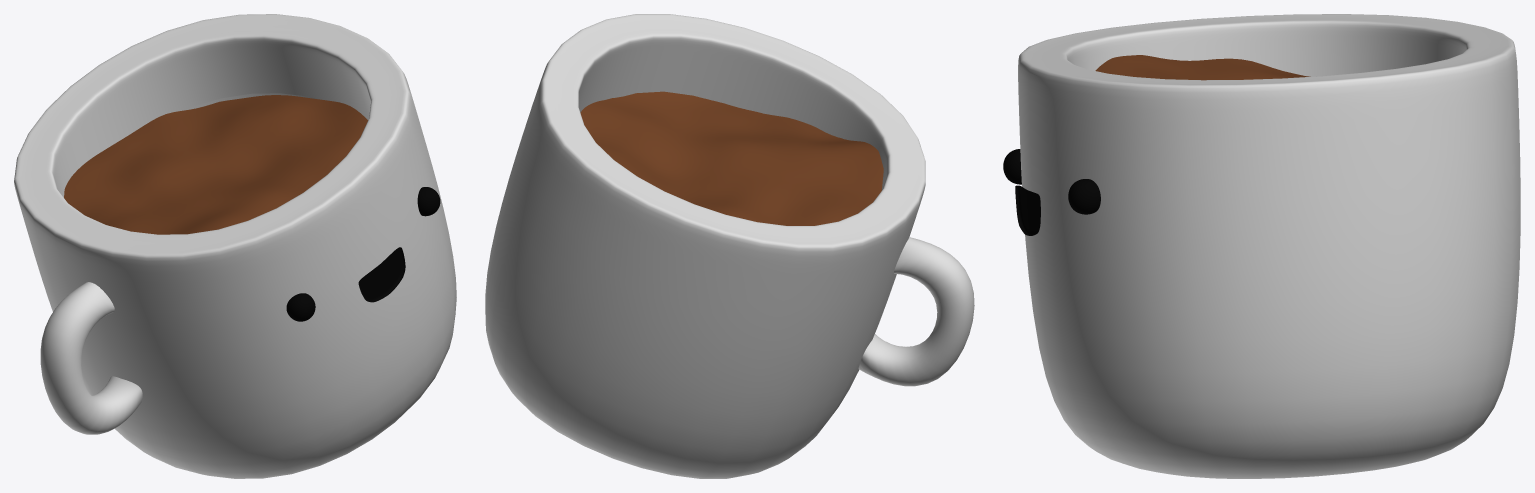
Rendered from mug.glb.
The picture shows the model from 3 angles, left to right: view 1: azimuth 30°, elevation 25°; view 2: azimuth 150°, elevation 25°; view 3: azimuth 270°, elevation 25°; orthographic projection. The views are drawn at different scales.
Parts seen in each view (by area): view 1: Cube_2, Plane_3, Cube.001_4, Cube.004_6, Cube.002_5, Cube.003_7; view 2: Cube_2, Plane_3, Cube.001_4; view 3: Cube_2, Plane_3, Cube.004_6, Cube.003_7.
Part boxes in pixels (x1,y1,x2,y2): Cube_2: (14,14,456,478); Plane_3: (64,95,367,234); Cube.001_4: (40,282,142,434); Cube.004_6: (358,247,405,302); Cube.002_5: (286,293,315,321); Cube.003_7: (417,187,440,216); Cube_2: (485,14,925,478); Plane_3: (580,91,883,225); Cube.001_4: (858,237,974,386); Cube_2: (1018,14,1520,478); Plane_3: (1095,55,1310,80); Cube.004_6: (1015,185,1040,235); Cube.003_7: (1068,179,1100,214).
Bounding box in the file's own units: 0.1192 × 0.1 × 0.1018.
